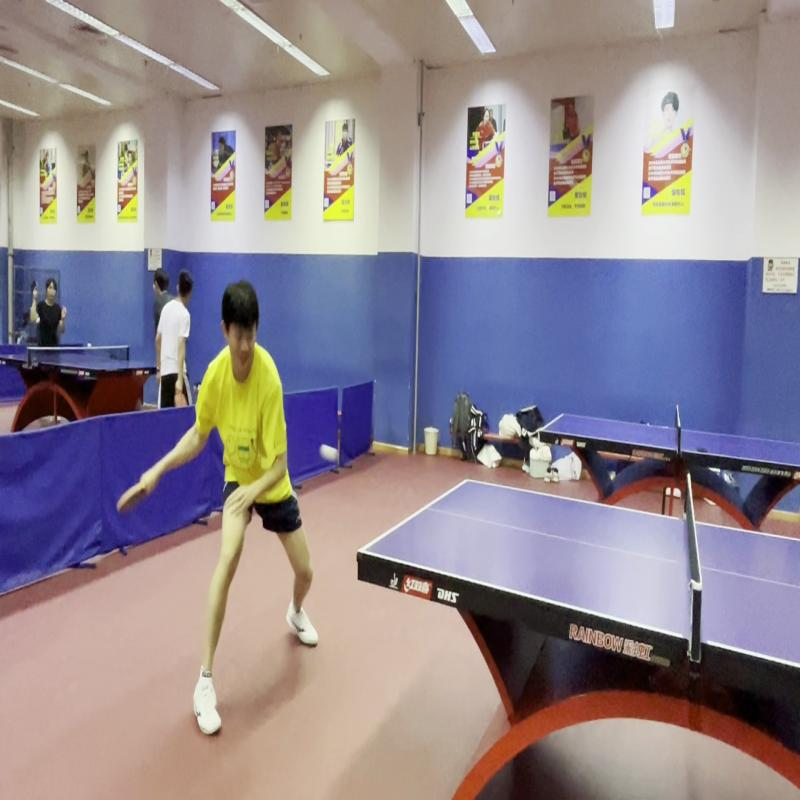bats: (114, 473, 151, 526)
